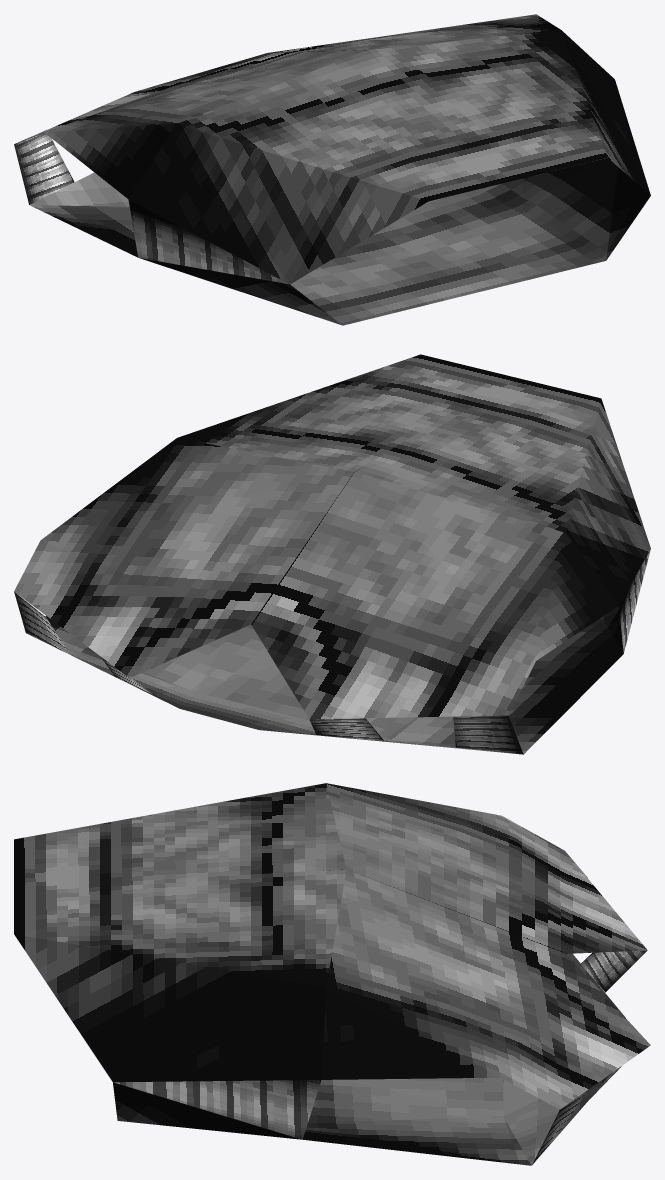
Rendered from body armour.obj.
The picture shows the model from 3 angles, top to bottom: view 1: azimuth 30°, elevation 25°; view 2: azimuth 150°, elevation 25°; view 3: azimuth 270°, elevation 25°; orthographic projection. The views are drawn at different scales.
Visible parts, largest first — view 1: primary; view 2: primary; view 3: primary.
Part boxes in pixels (bbox=[...]): primary: bbox=[14, 14, 650, 325]; primary: bbox=[14, 354, 650, 754]; primary: bbox=[14, 783, 650, 1165].
Bounding box in the file's own units: 394 × 142 × 406.
Materials: 7 (7 with a texture image).
